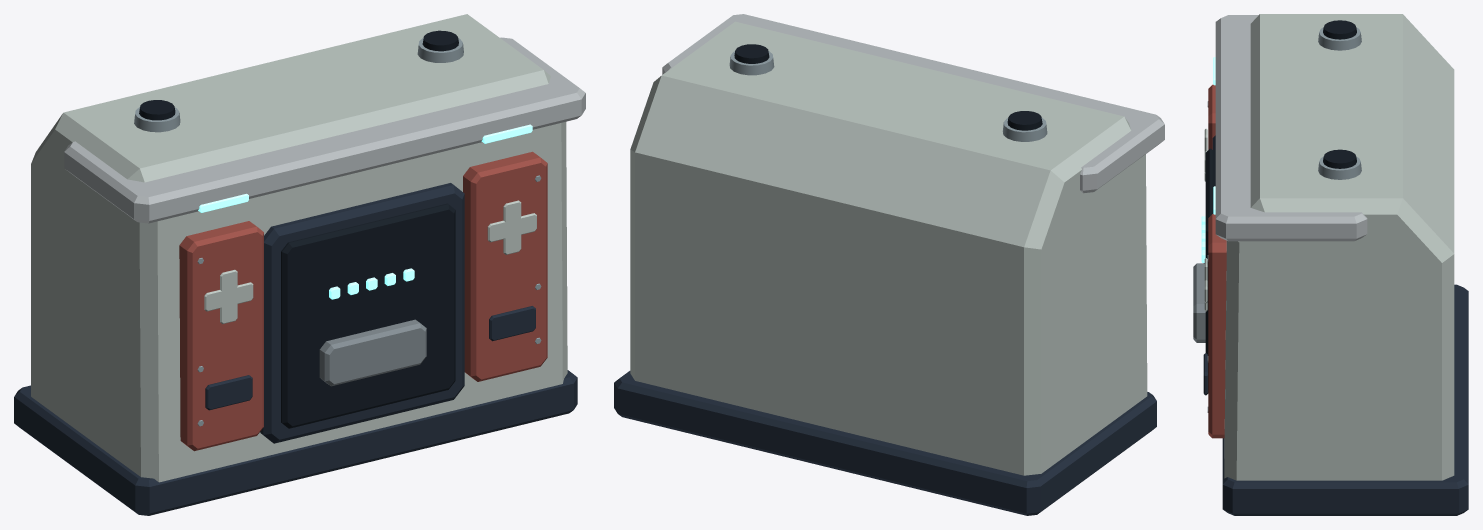
The model's file is field_hospital.glb.
3 renders of one model, left to right at view 1: azimuth 30°, elevation 25°; view 2: azimuth 150°, elevation 25°; view 3: azimuth 270°, elevation 25°, orthographic. The views are drawn at different scales.
Parts seen in each view (by area): view 1: field_hospital; view 2: field_hospital; view 3: field_hospital.
Part boxes in pixels (box(x1,y1,x2,y2)): field_hospital: box(14, 14, 585, 515); field_hospital: box(614, 14, 1164, 515); field_hospital: box(1193, 14, 1468, 515).
Size of the model in its own units: 3.41 by 2.51 by 1.93.
